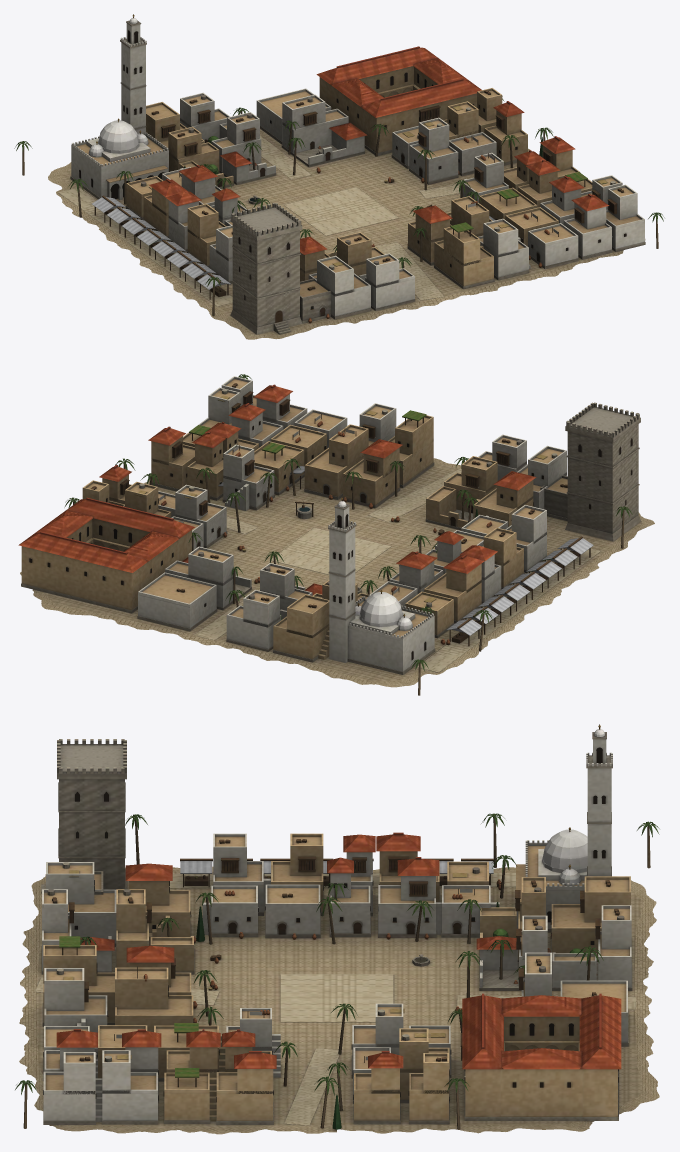
Rendered from kingdoms-town-big-b.glb.
3 renders of one model, top to bottom at view 1: azimuth 30°, elevation 25°; view 2: azimuth 150°, elevation 25°; view 3: azimuth 270°, elevation 25°, orthographic. The views are drawn at different scales.
Visible parts, largest first — view 1: LOD0; view 2: LOD0; view 3: LOD0.
Boxes of the visible parts, x1=… form: LOD0: x1=14, y1=14, x2=664, y2=339; LOD0: x1=18, y1=374, x2=654, y2=695; LOD0: x1=15, y1=724, x2=659, y2=1134.
Size of what is drawn, in the model's own units: 8.13 by 2.82 by 8.12.
Materials: 3 (3 with a texture image).
